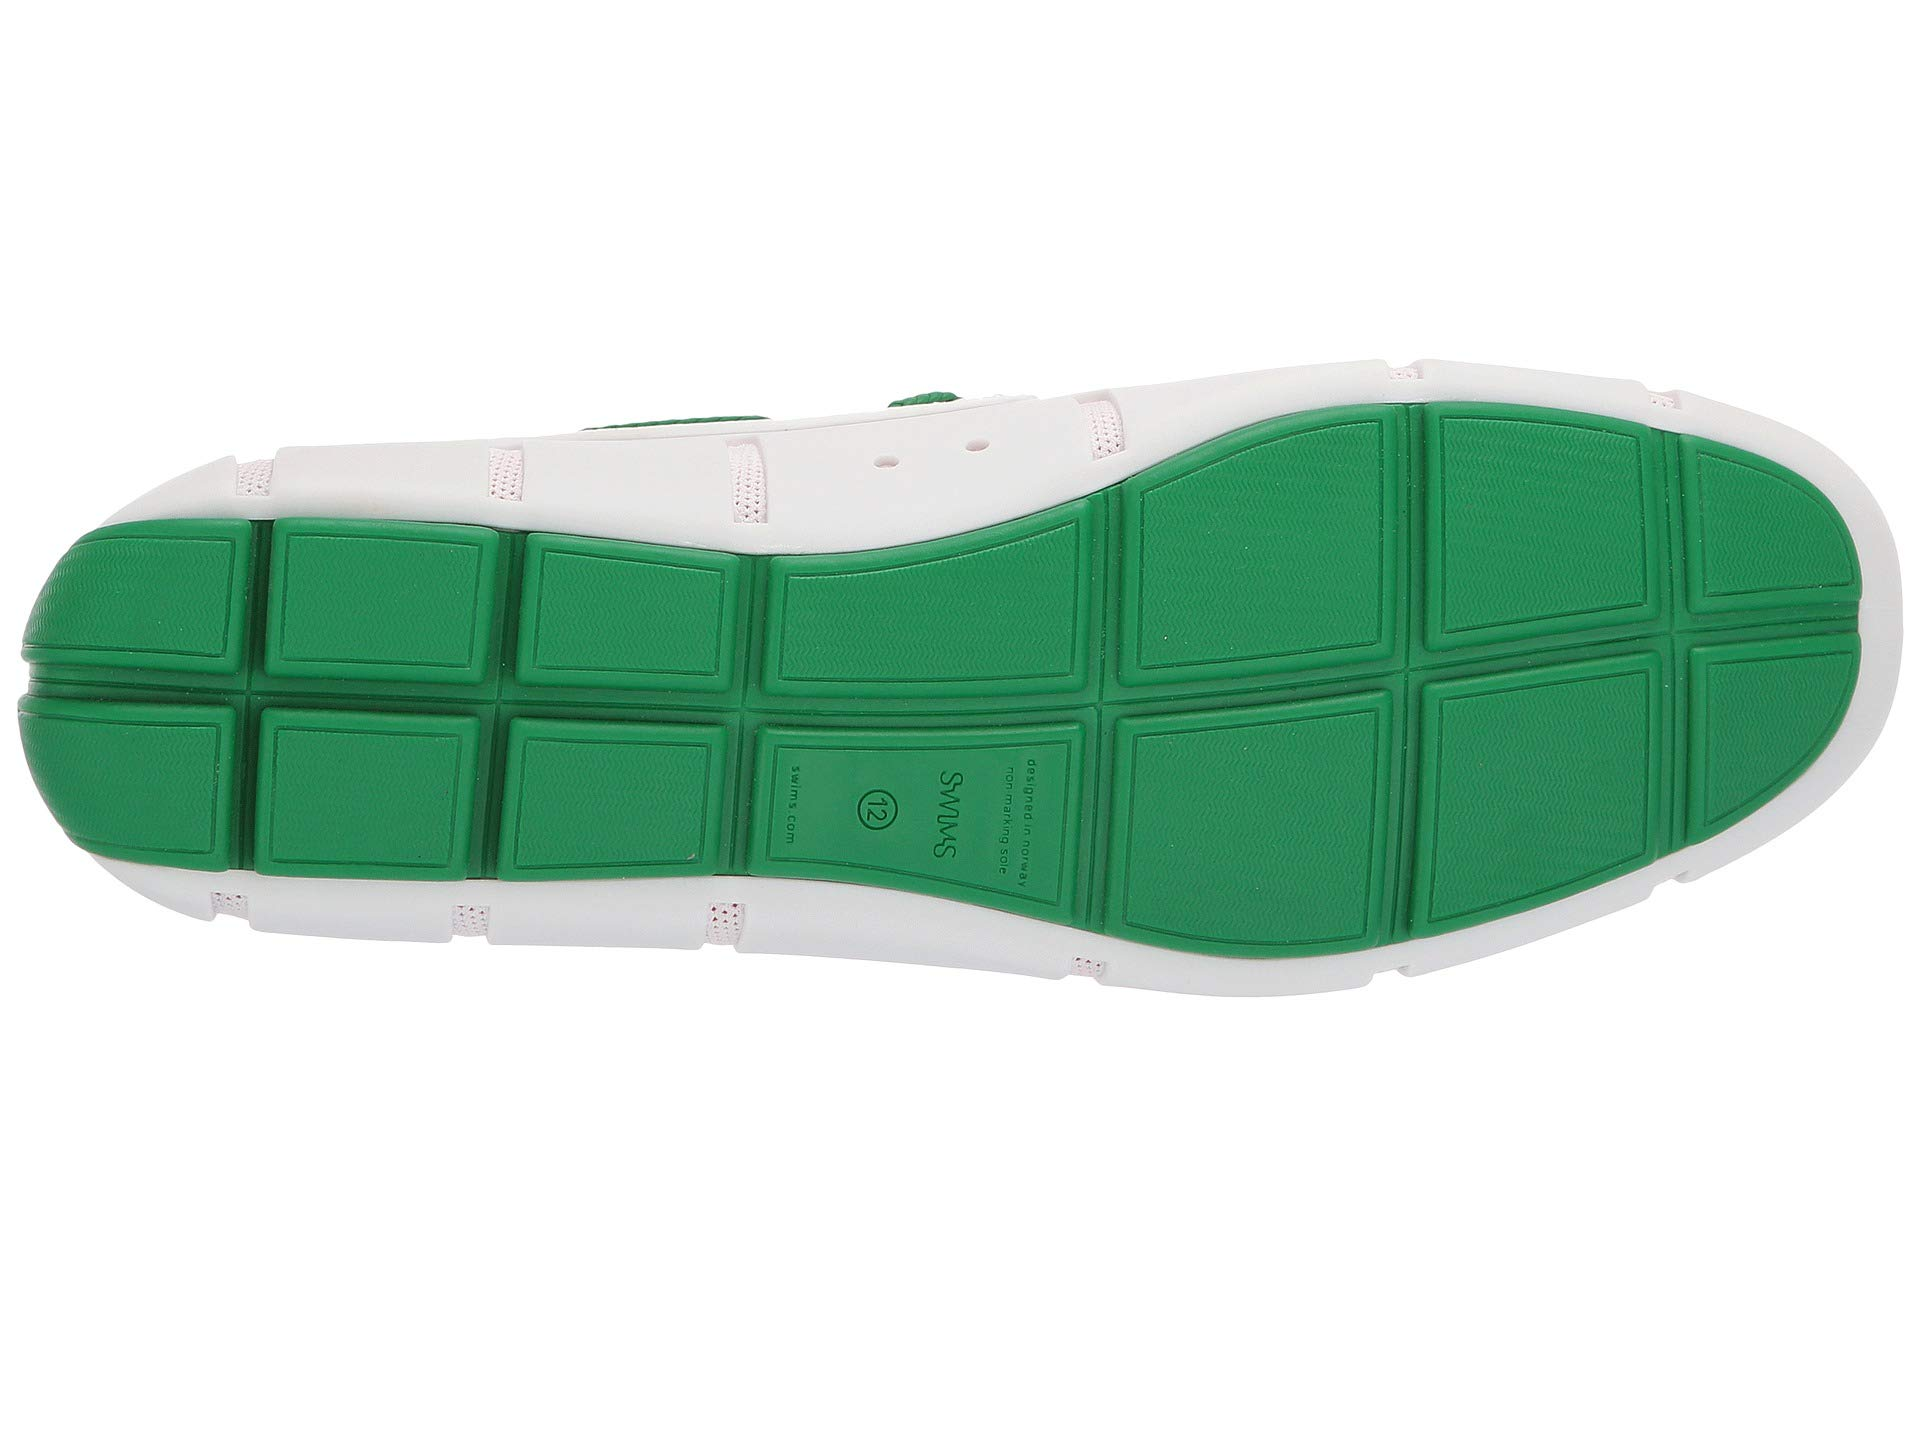chevron: (296, 747, 426, 864), (838, 585, 927, 675)
circle: (928, 756, 1057, 885), (831, 756, 931, 865)
quad: (485, 687, 733, 898)
text: (928, 756, 1057, 885), (831, 756, 931, 865)
